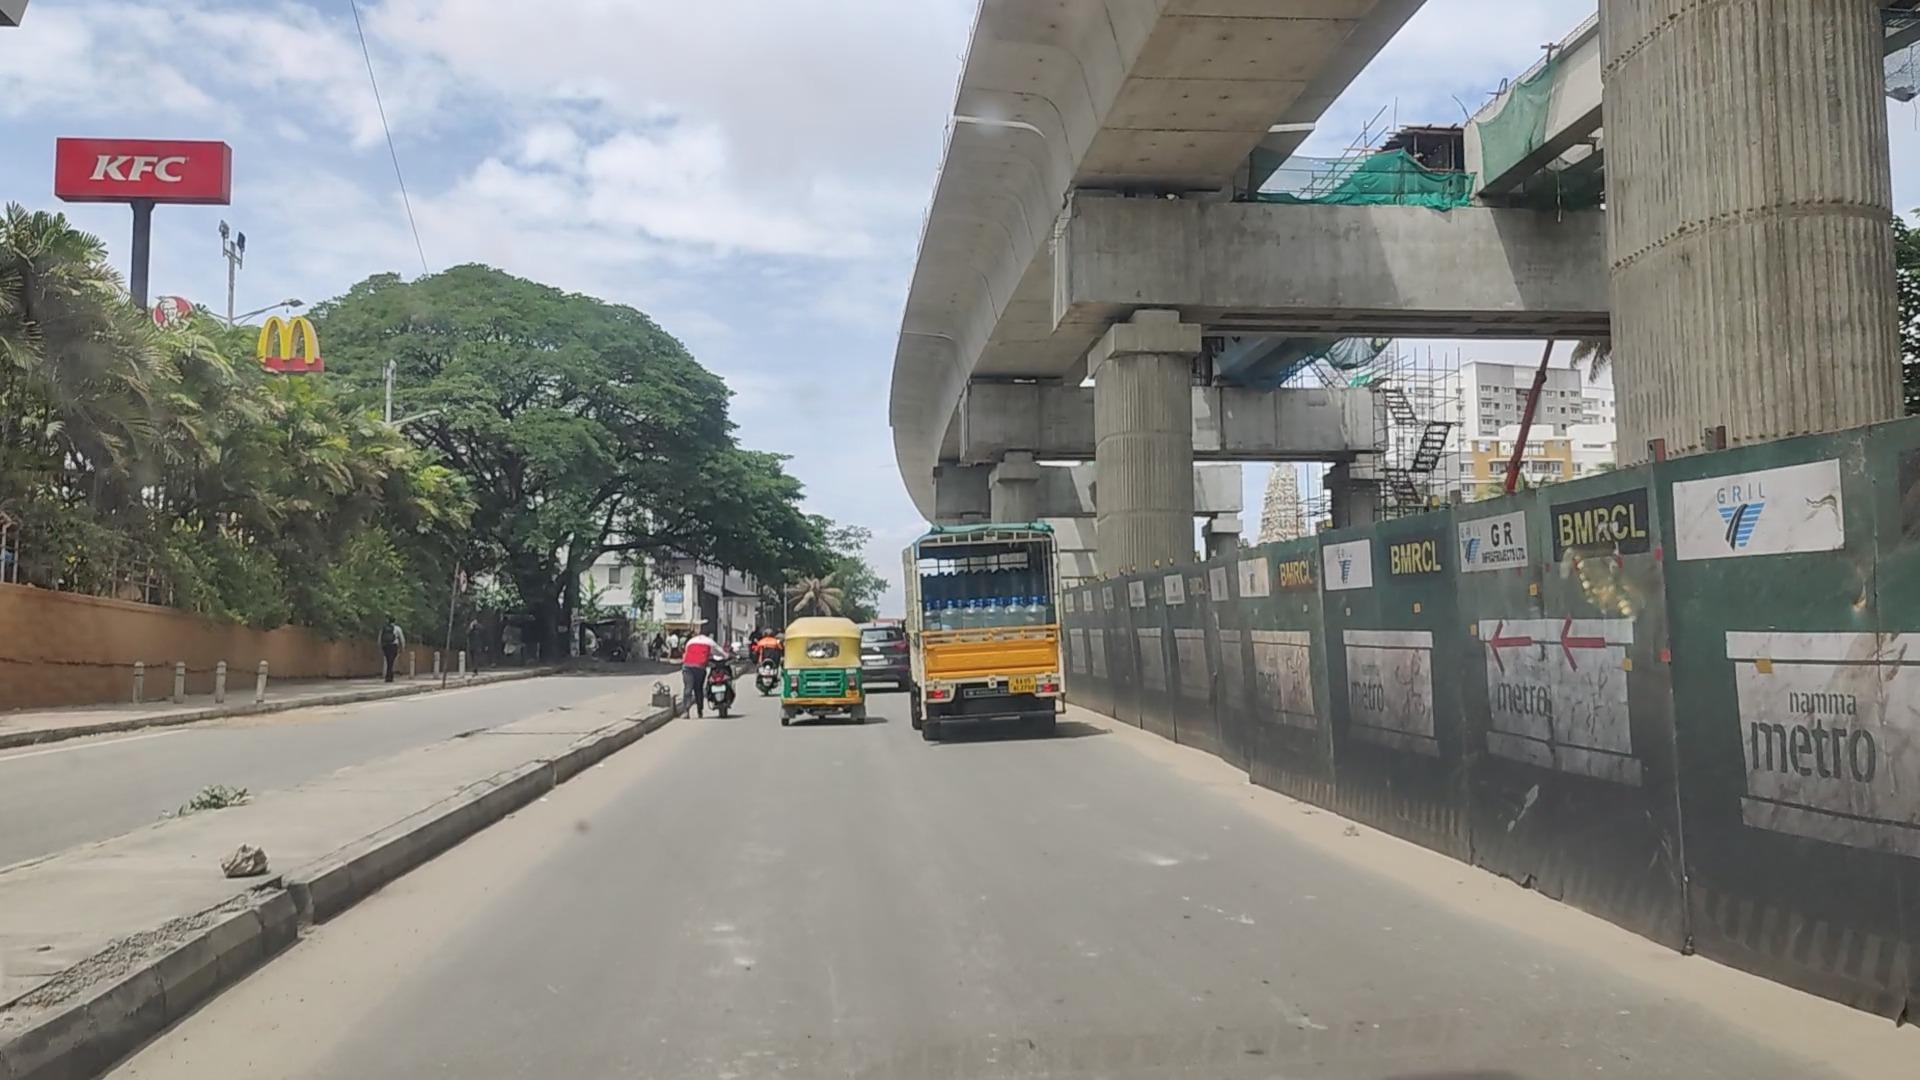HMV: (902, 512, 1058, 745)
LMV: (781, 609, 861, 720)
